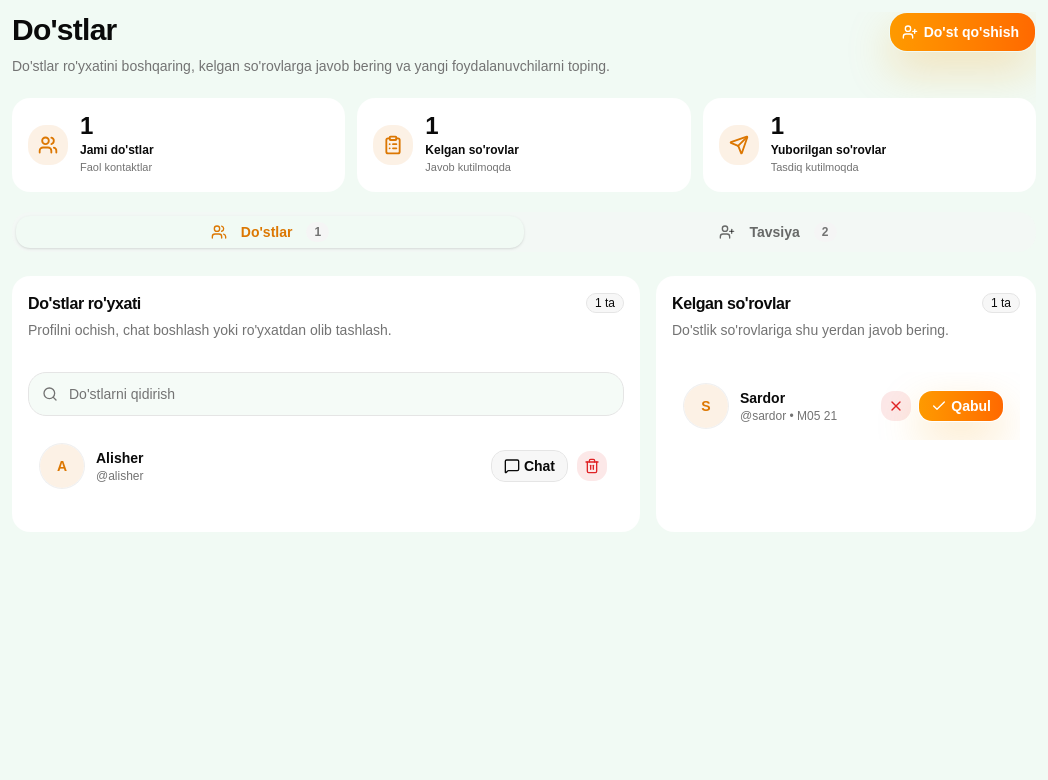
Test: FriendsContainer › opens the suggestions tab from the header add action
Step 1. Click the button "Do'st qo'shish" → click(962, 32), box [889,12,1036,52]
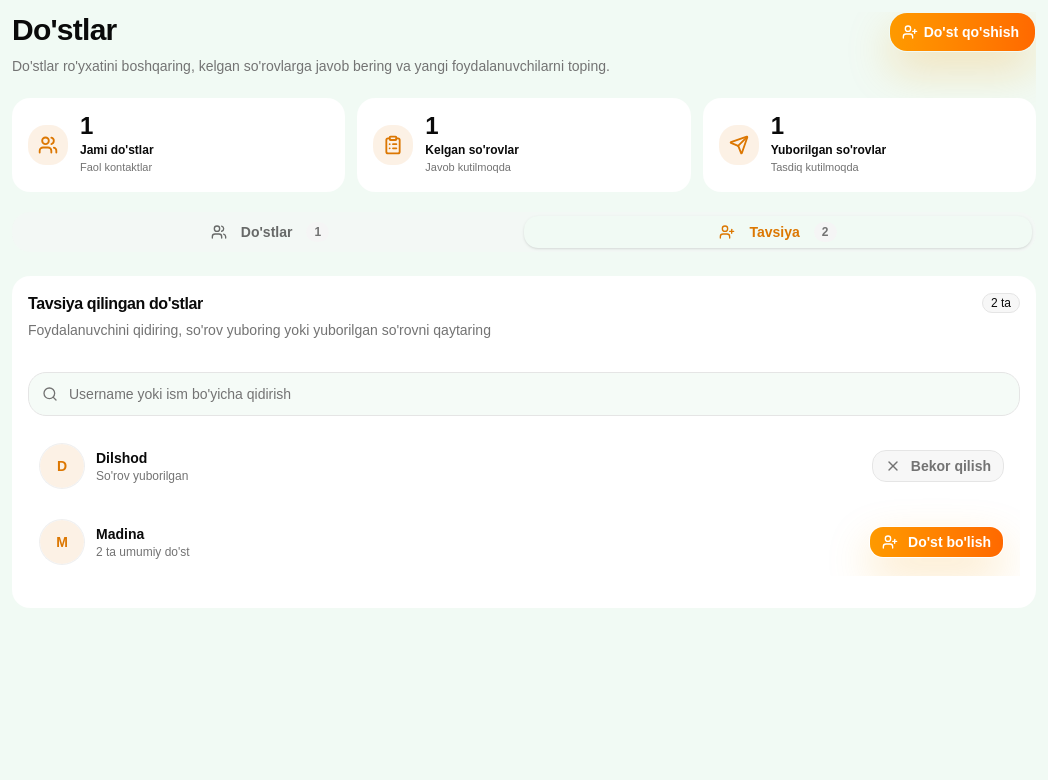
Expected: the text "Tavsiya qilingan do'stlar" is shown, [28,295,203,312]
Expected: the text "Madina" is shown, [96,526,144,542]
Expected: the button "Do'st bo'lish" is shown, [869,526,1004,558]
